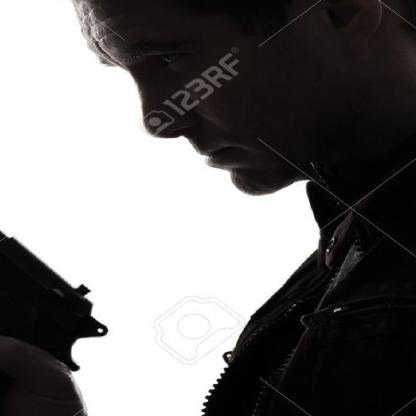gun: (0, 116, 121, 416)
